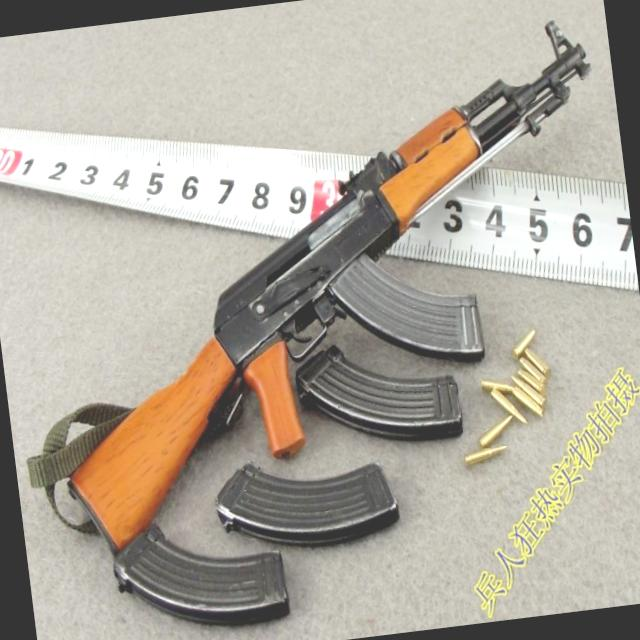ak: (16, 12, 640, 561)
